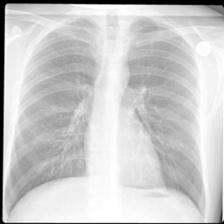tuberculosis: (4, 12, 208, 219)
